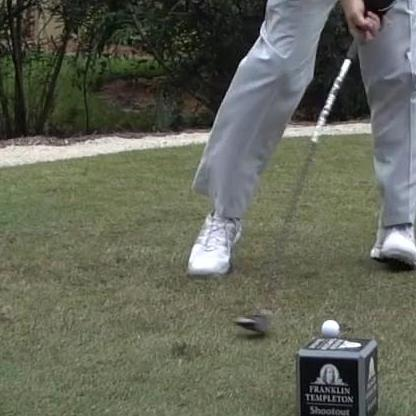golfball: (316, 315, 342, 336)
